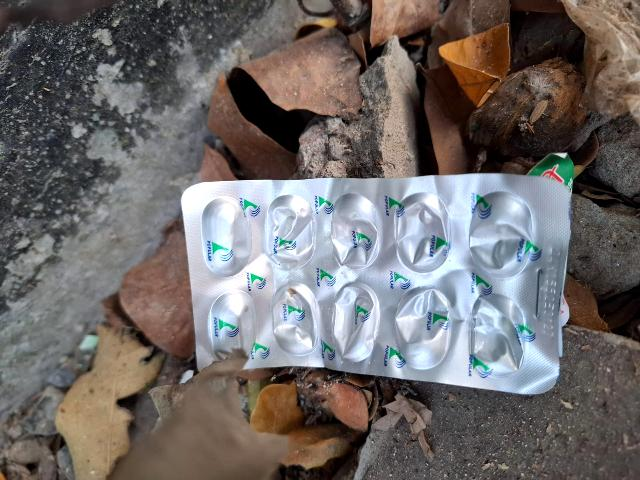medicine: (156, 171, 586, 392)
